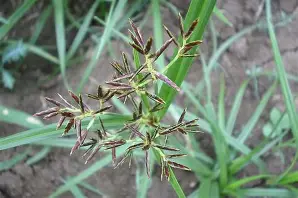weed: (36, 15, 208, 173)
